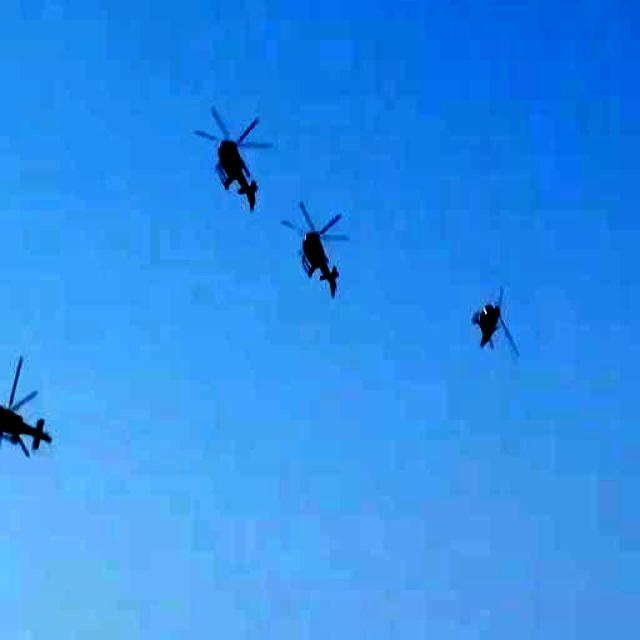drone: (184, 92, 269, 222), (0, 362, 55, 485), (289, 194, 354, 294), (464, 252, 520, 352)
